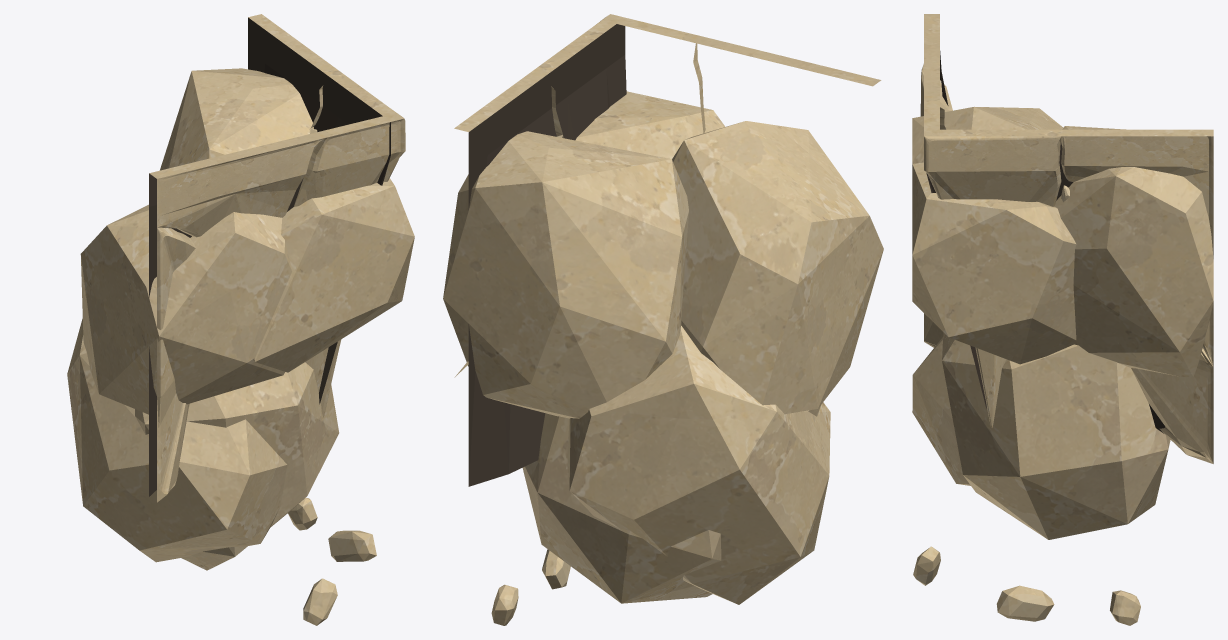
File: ground_bottom_corner_06.glb
3 views of the same model, side by side, from view 1: azimuth 30°, elevation 25°; view 2: azimuth 150°, elevation 25°; view 3: azimuth 270°, elevation 25° (orthographic). The views are drawn at different scales.
Parts seen in each view (by area): view 1: GroundBottomCorner06_Body; view 2: GroundBottomCorner06_Body; view 3: GroundBottomCorner06_Body.
Boxes of the visible parts, x1,y1,x2,y2 form: GroundBottomCorner06_Body: (67,14,414,625); GroundBottomCorner06_Body: (443,14,883,625); GroundBottomCorner06_Body: (912,14,1213,625).
Bounding box in the file's own units: 1.04 × 1.88 × 1.04.
Materials: 8 (7 with a texture image).
